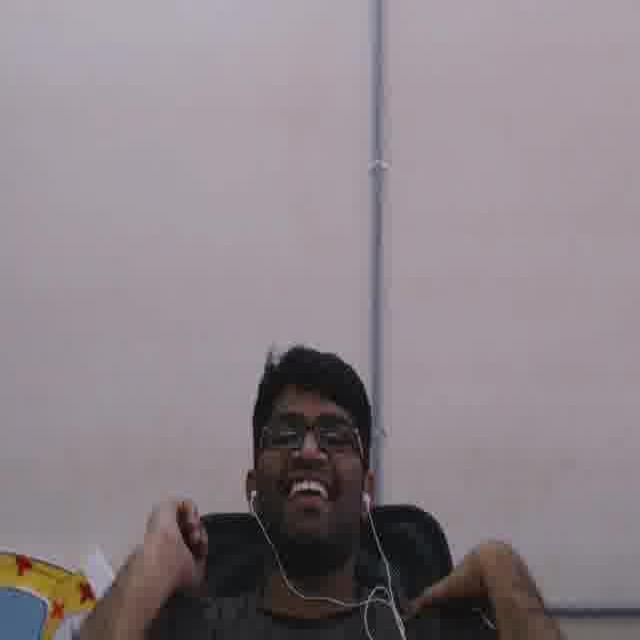Engaged: (260, 381, 359, 535)
